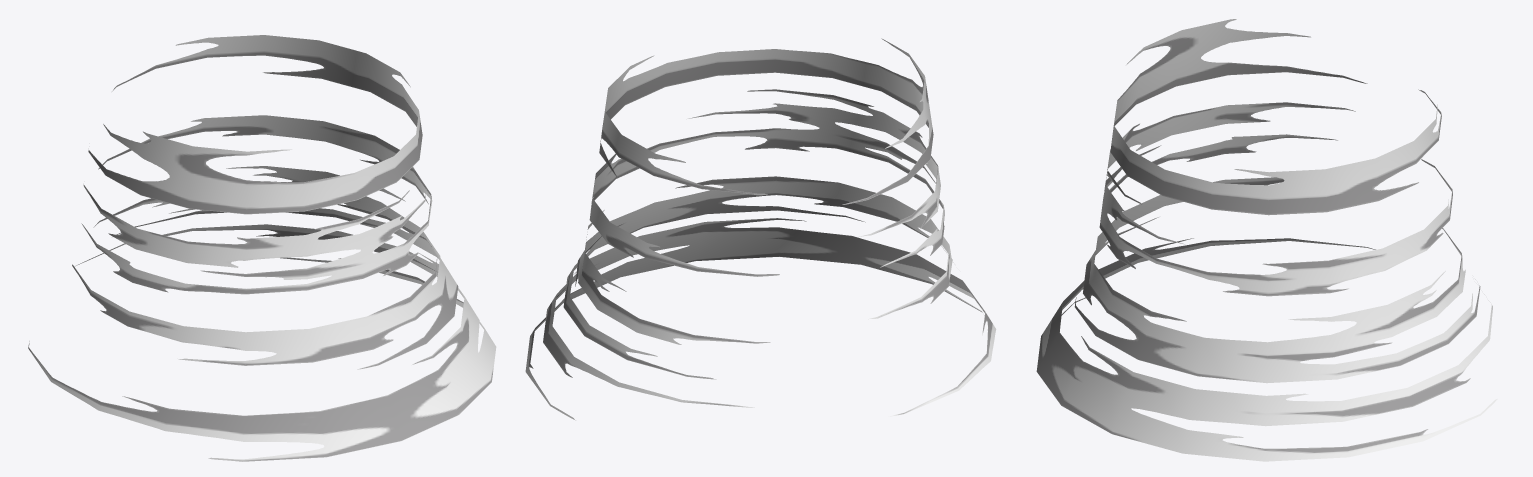
File: eff_cylinder_s_14.FBX
3 views of the same model, side by side, from view 1: azimuth 30°, elevation 25°; view 2: azimuth 150°, elevation 25°; view 3: azimuth 270°, elevation 25° (orthographic).
Parts seen in each view (by area): view 1: eff_cylinder_s_14; view 2: eff_cylinder_s_14; view 3: eff_cylinder_s_14.
Part boxes in pixels (<box>): eff_cylinder_s_14: <box>28,35,496,461</box>; eff_cylinder_s_14: <box>525,38,996,420</box>; eff_cylinder_s_14: <box>1036,19,1497,461</box>.
Bounding box in the file's own units: 150 × 95.23 × 149.
Materials: 1 (1 with a texture image).
